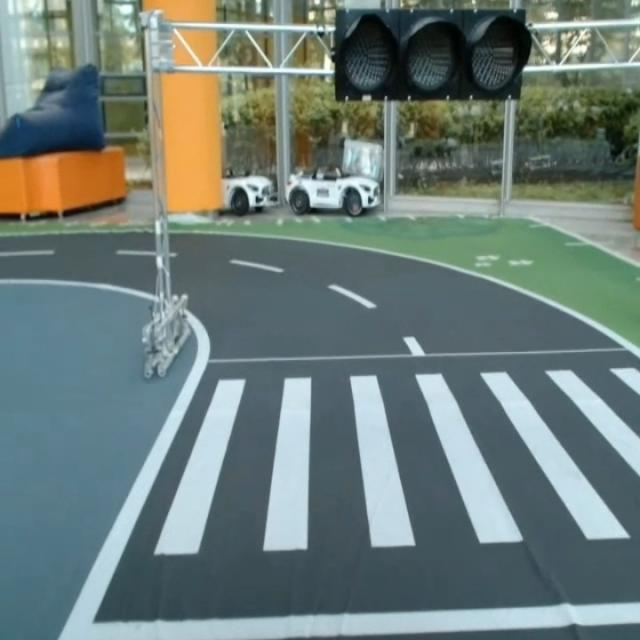traffic-light: (332, 4, 531, 99)
